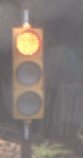Red: (10, 21, 51, 140)
